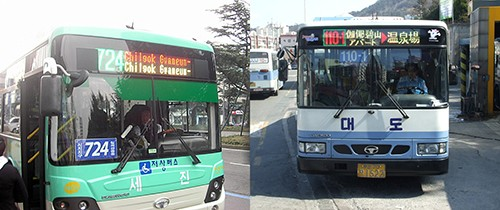bnum: (81, 139, 112, 158)
